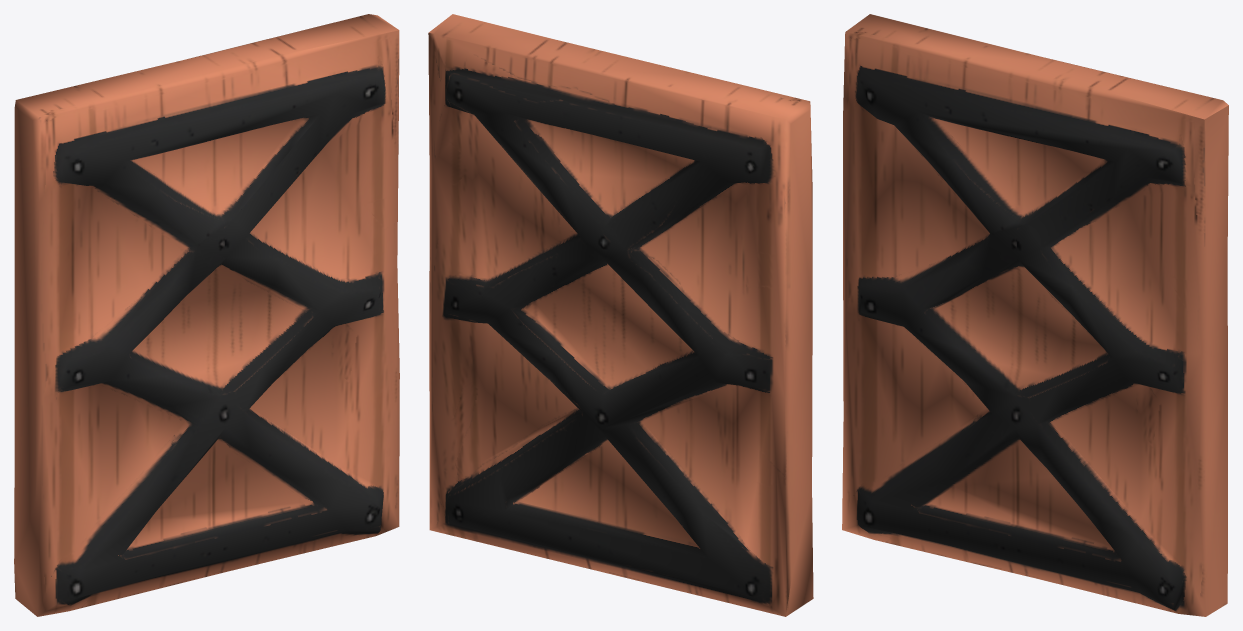
File: rustic-barn-door.glb
3 renders of one model, left to right at view 1: azimuth 30°, elevation 25°; view 2: azimuth 150°, elevation 25°; view 3: azimuth 330°, elevation 25°, orthographic.
Parts seen in each view (by area): view 1: geometry_0.001; view 2: geometry_0.001; view 3: geometry_0.001.
Boxes of the visible parts, left/top/right/bottom form: geometry_0.001: left=14, top=14, right=399, bottom=616; geometry_0.001: left=428, top=14, right=813, bottom=616; geometry_0.001: left=842, top=14, right=1228, bottom=616.
Bounding box in the file's own units: 0.7571 × 0.9987 × 0.1452.
1 material, 1 textured.
